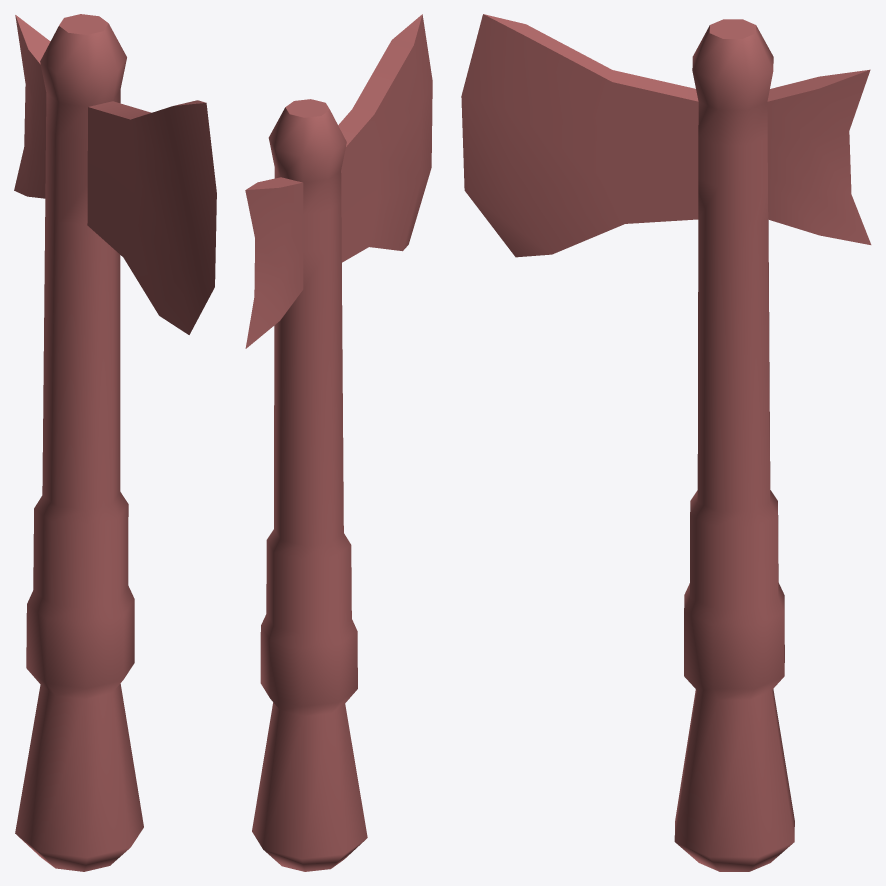
Rendered from Axe_3.fbx.
The picture shows the model from 3 angles, left to right: view 1: azimuth 30°, elevation 25°; view 2: azimuth 150°, elevation 25°; view 3: azimuth 270°, elevation 25°; orthographic projection. The views are drawn at different scales.
Parts seen in each view (by area): view 1: Stump1; view 2: Stump1; view 3: Stump1.
Part boxes in pixels (box(x1,y1,x2,y2)): Stump1: box(14, 14, 216, 871); Stump1: box(245, 14, 432, 871); Stump1: box(461, 14, 871, 871).
Size of the model in its own units: 22.58 by 175 by 76.99.
